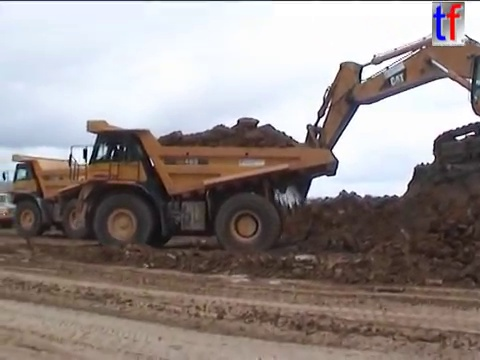excavator: (269, 26, 480, 212)
truck: (67, 118, 341, 257), (2, 153, 160, 242), (1, 190, 26, 232)
